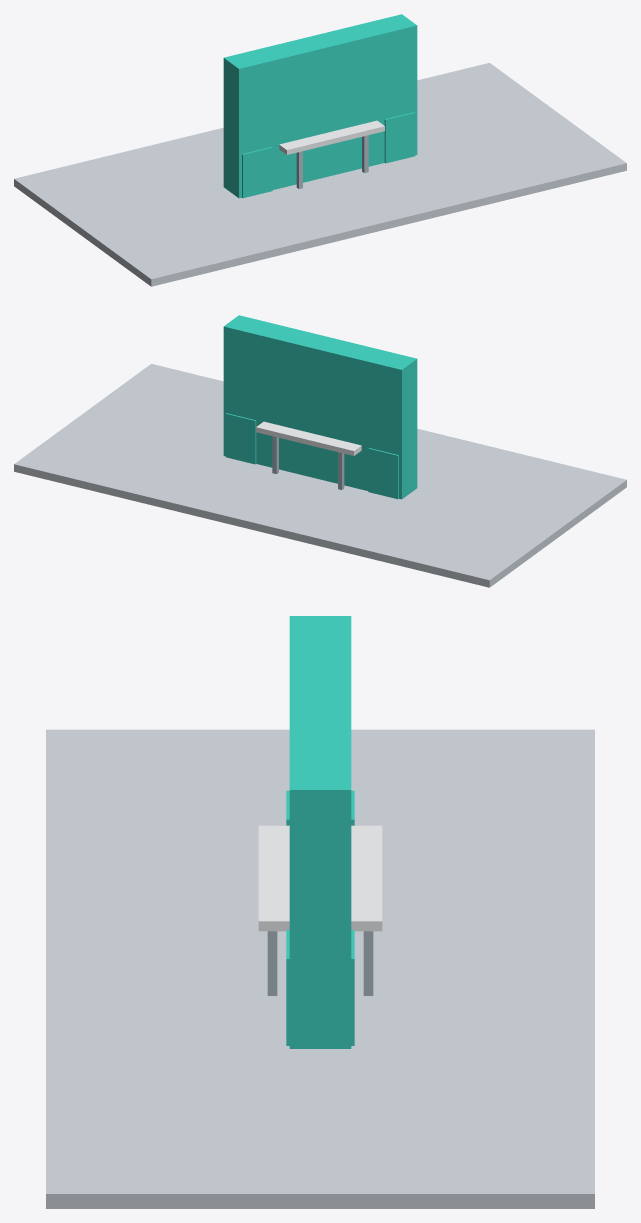
3 renders of one model, top to bottom at view 1: azimuth 30°, elevation 25°; view 2: azimuth 150°, elevation 25°; view 3: azimuth 270°, elevation 25°, orthographic. The views are drawn at different scales.
Parts seen in each view (by area): view 1: Exhibition Booth Concept; view 2: Exhibition Booth Concept; view 3: Exhibition Booth Concept.
Part boxes in pixels (bbox=[...]): Exhibition Booth Concept: bbox=[14, 14, 626, 286]; Exhibition Booth Concept: bbox=[14, 315, 626, 587]; Exhibition Booth Concept: bbox=[46, 616, 594, 1208].
Bounding box in the file's own units: 8 × 2.2 × 4.
